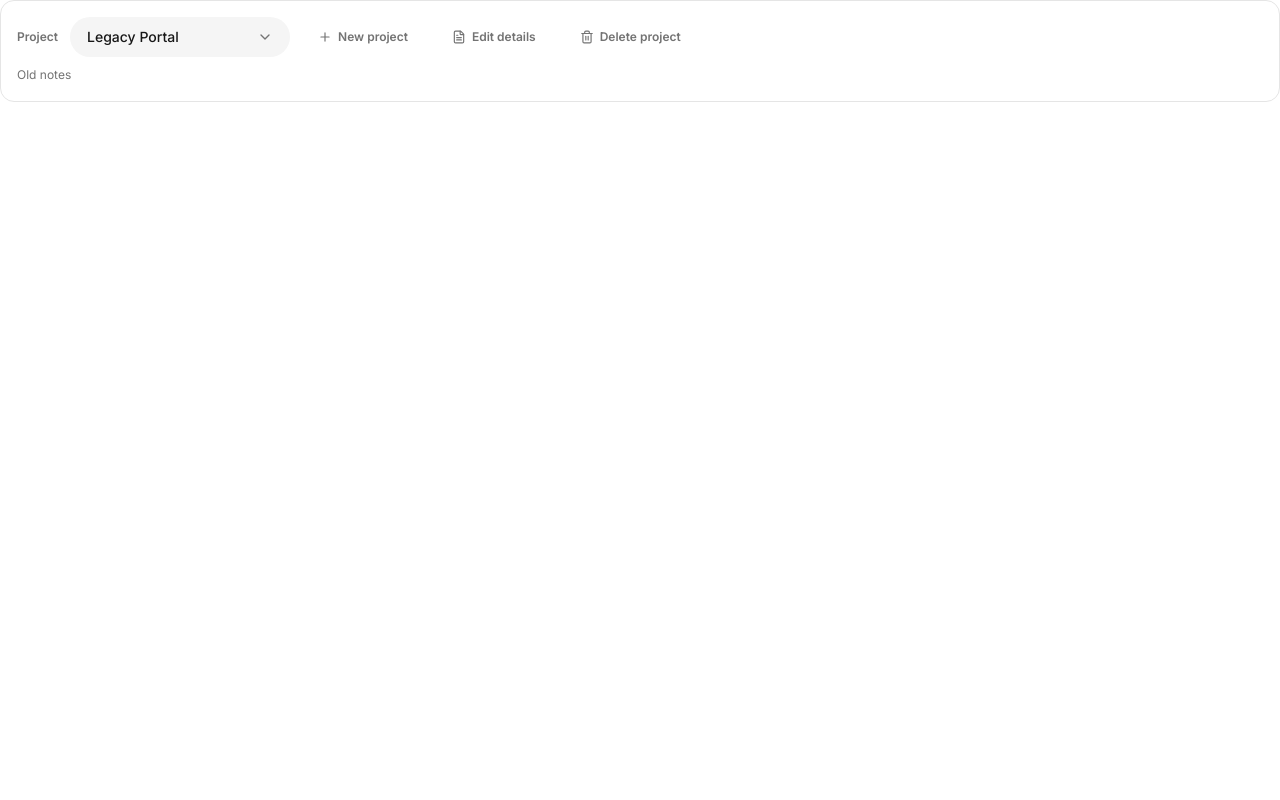
Test: ProjectPicker editing a project's details › keeps the dialog open with the reason when the save is refused
The width and height of the screenshot is (1280, 800).
Click the button "Edit details": (494, 37) x1=436 y1=19 x2=552 y2=55
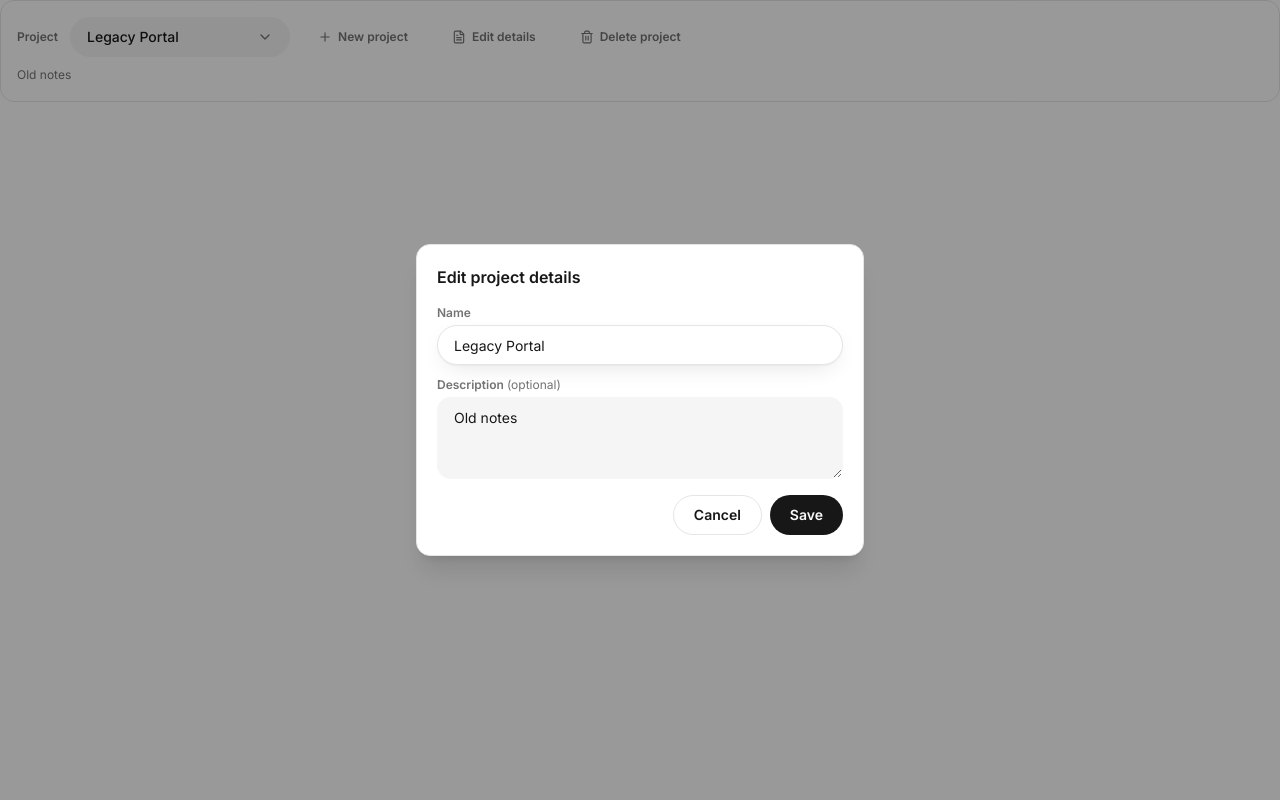
Click the button "Save": (806, 515) x1=770 y1=495 x2=843 y2=535
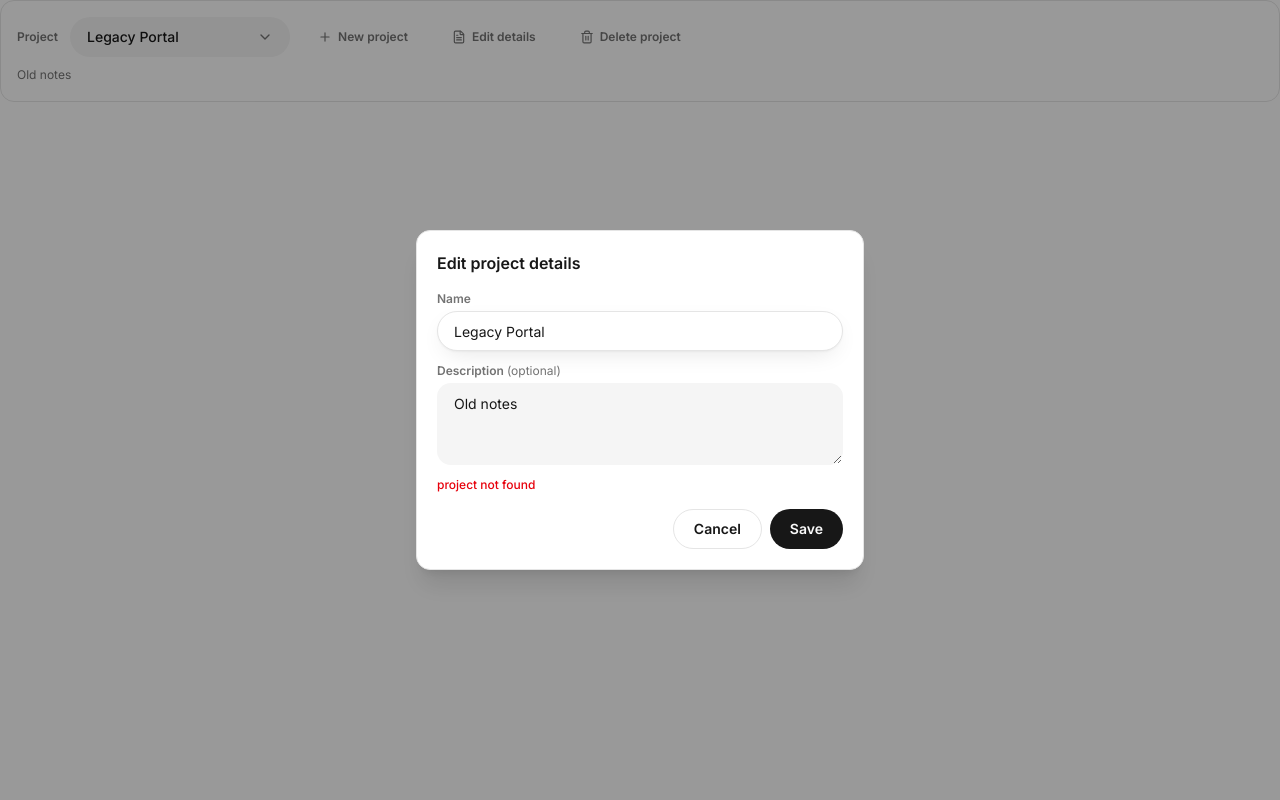
Expected: the dialog "Edit project details" is shown
Expected: the message reads "project not found", x1=437 y1=477 x2=536 y2=492
